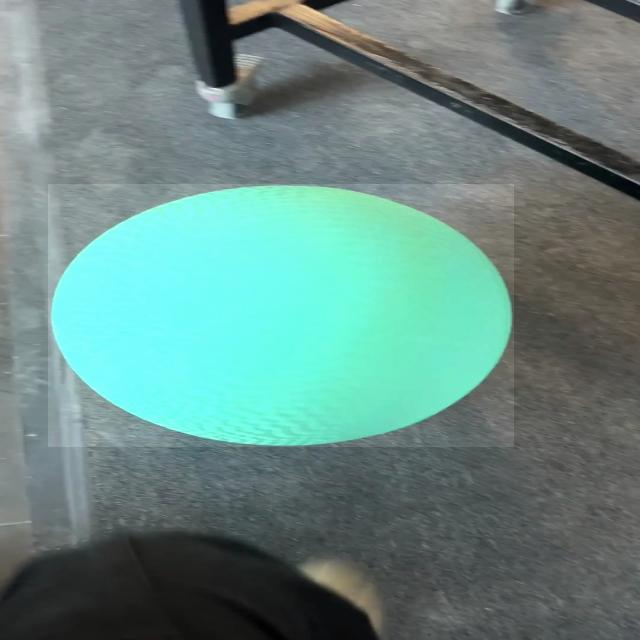Algae: (48, 184, 514, 447)
